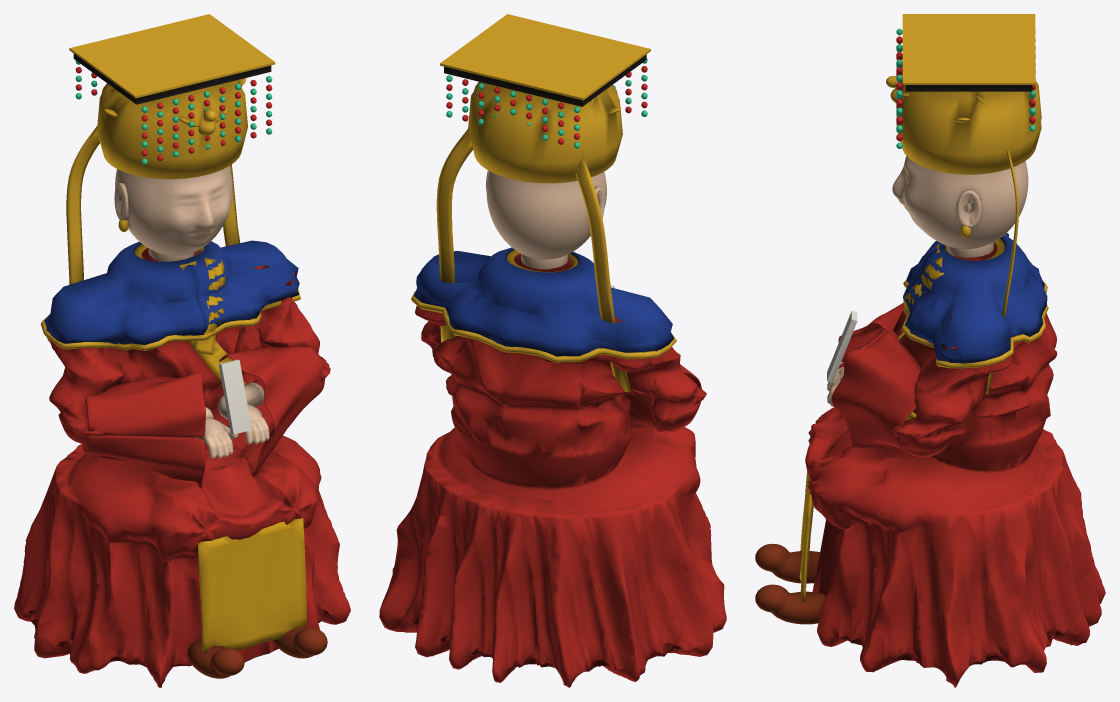
The model's file is mazu.glb.
3 renders of one model, left to right at view 1: azimuth 30°, elevation 25°; view 2: azimuth 150°, elevation 25°; view 3: azimuth 270°, elevation 25°, orthographic. The views are drawn at different scales.
Parts seen in each view (by area): view 1: MZ_Robe, MZ_Collar2, MZ_Apron, MZ_SleeveL, MZ_Crown, MZ_BoardTrim, MZ_HeadMesh, MZ_SleeveR, MZ_Ribbons, MZ_Boots, MZ_CapeEdge, MZ_Tablet (+8 smaller); view 2: MZ_Robe, MZ_Collar2, MZ_Crown, MZ_BoardTrim, MZ_HeadMesh, MZ_Ribbons, MZ_CapeEdge, MZ_Board, MZ_SleeveL, MZ_BeadsJ, MZ_BeadsR; view 3: MZ_Robe, MZ_Collar2, MZ_Crown, MZ_BoardTrim, MZ_HeadMesh, MZ_SleeveR, MZ_Boots, MZ_SleeveL, MZ_CapeEdge, MZ_Apron, MZ_Board, MZ_Ribbons (+4 smaller).
Part boxes in pixels (left/top/right/bottom): MZ_Robe: left=14, top=248, right=350, bottom=687; MZ_Collar2: left=44, top=240, right=299, bottom=345; MZ_Apron: left=197, top=518, right=306, bottom=652; MZ_SleeveL: left=82, top=372, right=205, bottom=488; MZ_Crown: left=96, top=80, right=247, bottom=179; MZ_BoardTrim: left=69, top=14, right=275, bottom=98; MZ_HeadMesh: left=115, top=166, right=232, bottom=255; MZ_SleeveR: left=219, top=346, right=324, bottom=475; MZ_Ribbons: left=66, top=126, right=240, bottom=284; MZ_Boots: left=187, top=626, right=327, bottom=678; MZ_CapeEdge: left=40, top=289, right=300, bottom=350; MZ_Tablet: left=218, top=359, right=251, bottom=434; MZ_Robe: left=379, top=254, right=726, bottom=687; MZ_Collar2: left=414, top=247, right=673, bottom=356; MZ_Crown: left=468, top=82, right=622, bottom=183; MZ_BoardTrim: left=440, top=14, right=650, bottom=100; MZ_HeadMesh: left=486, top=171, right=606, bottom=259; MZ_Ribbons: left=436, top=127, right=630, bottom=391; MZ_CapeEdge: left=411, top=291, right=676, bottom=362; MZ_Board: left=444, top=54, right=646, bottom=106; MZ_SleeveL: left=625, top=364, right=701, bottom=431; MZ_BeadsJ: left=446, top=58, right=647, bottom=148; MZ_BeadsR: left=446, top=66, right=647, bottom=144; MZ_Robe: left=805, top=243, right=1105, bottom=687; MZ_Collar2: left=903, top=233, right=1047, bottom=363; MZ_Crown: left=896, top=81, right=1041, bottom=174; MZ_BoardTrim: left=902, top=14, right=1035, bottom=84; MZ_HeadMesh: left=892, top=156, right=1028, bottom=248; MZ_SleeveR: left=831, top=333, right=949, bottom=458; MZ_Boots: left=755, top=543, right=825, bottom=624; MZ_SleeveL: left=838, top=302, right=904, bottom=368; MZ_CapeEdge: left=901, top=280, right=1048, bottom=368; MZ_Apron: left=799, top=470, right=813, bottom=602; MZ_Board: left=905, top=85, right=1032, bottom=91; MZ_Ribbons: left=985, top=146, right=1018, bottom=394.
Size of the model in its own units: 1.18 by 2.09 by 1.16.
